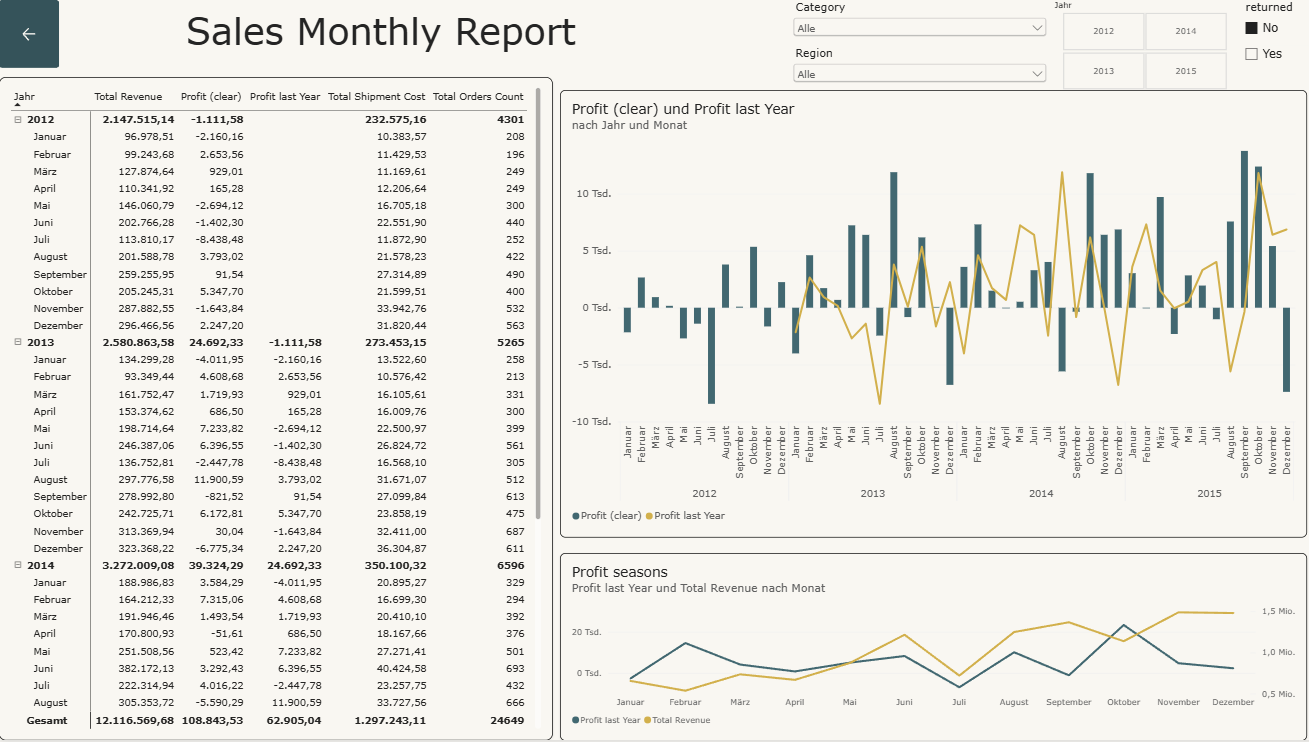

The page's visual inventory and layout, read from the dashboard file:
{"tool":"powerbi","page":{"name":"Monthly Report","canvas":[1920,1080],"ordinal":2},"visuals":[{"type":"pivotTable","fields":{"Rows":["DimDate.Date.Variation.Datumshierarchie.Jahr","DimDate.Date.Variation.Datumshierarchie.Monat"],"Values":["_measures.Total_Revenue","_measures.Profit without Shipment","_measures.Profit last Year","_measures.Total Shipment Cost","_measures.Total Orders Count"]},"box":[0,112.5,807.8,968.2],"z":0},{"type":"lineStackedColumnComboChart","fields":{"Category":["DimDate.Date.Variation.Datumshierarchie.Jahr","DimDate.Date.Variation.Datumshierarchie.Monat","DimDate.Date.Variation.Datumshierarchie.Tag"],"Y":["_measures.Profit without Shipment"],"Y2":["_measures.Profit last Year"]},"box":[818.7,131.7,1090.3,652.8],"z":1000},{"type":"lineChart","title":"Profit seasons","fields":{"Category":["DimDate.Date.Variation.Datumshierarchie.Monat"],"Y":["_measures.Profit last Year"],"Y2":["_measures.Total_Revenue"]},"box":[818.7,806.4,1090.3,274.3],"z":2000},{"type":"slicer","fields":{"Values":["factOrders.returned"]},"box":[1811,0,109,131.8],"z":3000},{"type":"slicer","fields":{"Values":["DimDate.Date.Variation.Datumshierarchie.Jahr"]},"box":[1532.6,0,277.7,132.5],"z":4000},{"type":"textbox","box":[31.3,11.4,1052.6,89.7],"z":5000},{"type":"slicer","fields":{"Values":["dimProduct.Category"]},"box":[1153.7,0,378.9,66.9],"z":6000},{"type":"slicer","fields":{"Values":["dimStoreAdress.Region"]},"box":[1153.7,66.9,378.9,65.5],"z":7000},{"type":"actionButton","box":[0,0,87.9,99.3],"z":8000}]}

Visuals, with their boxes in screenshot pixels (x1, y1, x2, y2), scaled from the page's 1920x1080 canvas onto the 1309x742 screenshot:
pivotTable - DimDate.Date.Variation.Datumshierarchie.Jahr x DimDate.Date.Variation.Datumshierarchie.Monat: bbox=[0, 77, 551, 741]
lineStackedColumnComboChart - DimDate.Date.Variation.Datumshierarchie.Jahr x DimDate.Date.Variation.Datumshierarchie.Monat: bbox=[558, 90, 1302, 539]
"Profit seasons" lineChart: bbox=[558, 554, 1302, 741]
slicer - factOrders.returned: bbox=[1235, 0, 1308, 91]
slicer - DimDate.Date.Variation.Datumshierarchie.Jahr: bbox=[1045, 0, 1234, 91]
textbox: bbox=[21, 8, 739, 69]
slicer - dimProduct.Category: bbox=[787, 0, 1045, 46]
slicer - dimStoreAdress.Region: bbox=[787, 46, 1045, 91]
actionButton: bbox=[0, 0, 60, 68]
